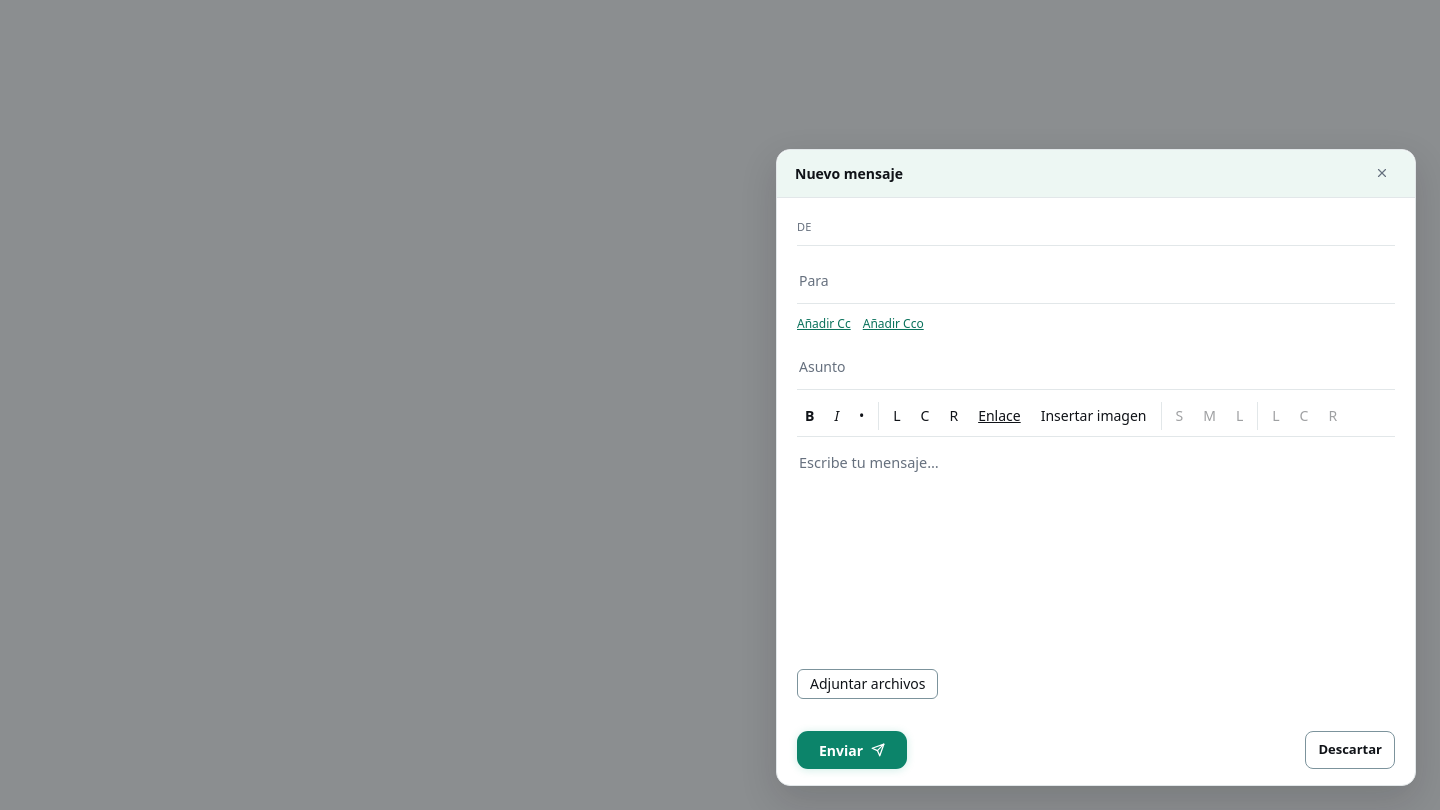
Test: Composer › adds a recipient chip when typing an email and pressing Enter in To
In the dropdown labelled "Para": (1096, 280) [797,270,1395,291], type "bob@example.com"
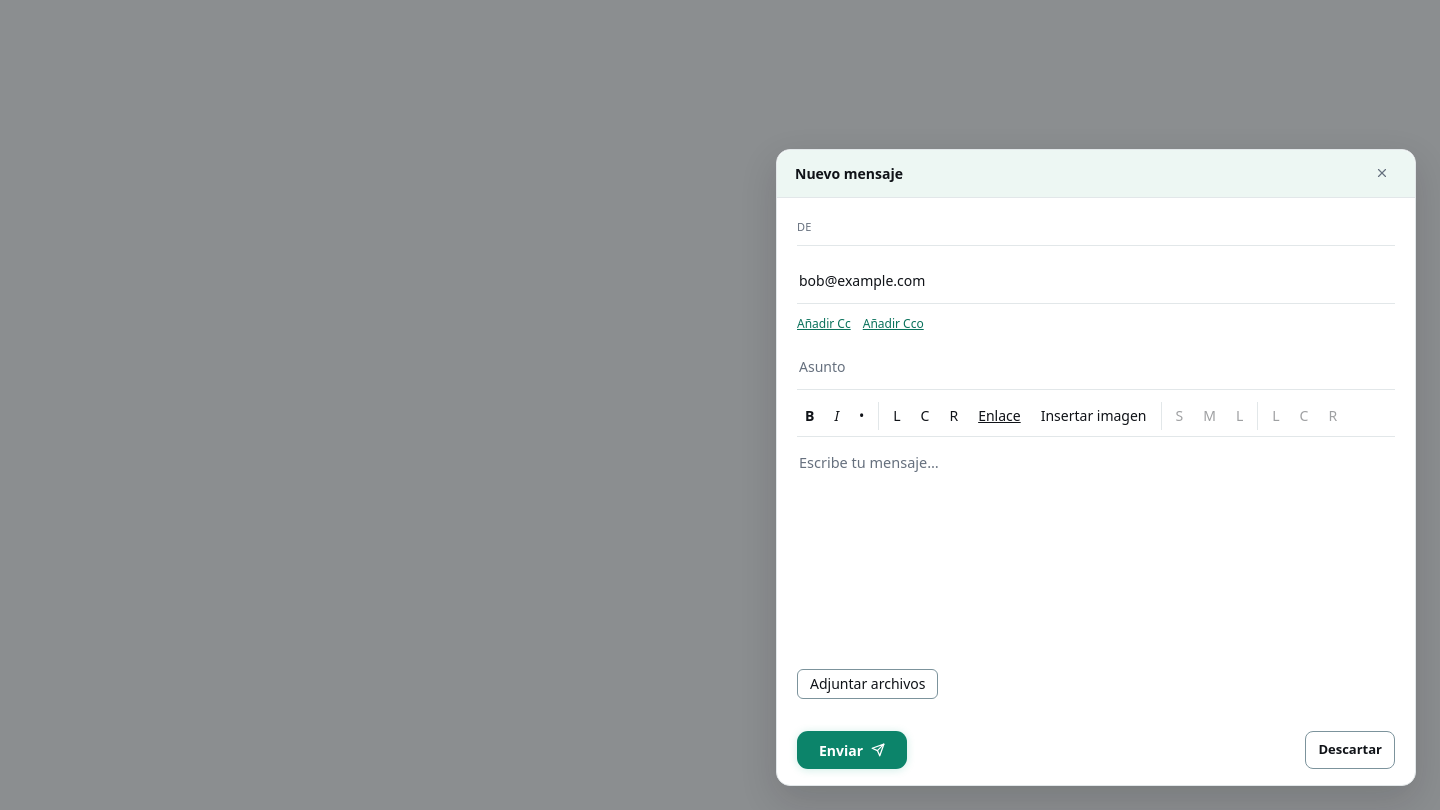
Press Enter in the dropdown named "Para", box [797,270,1395,291]
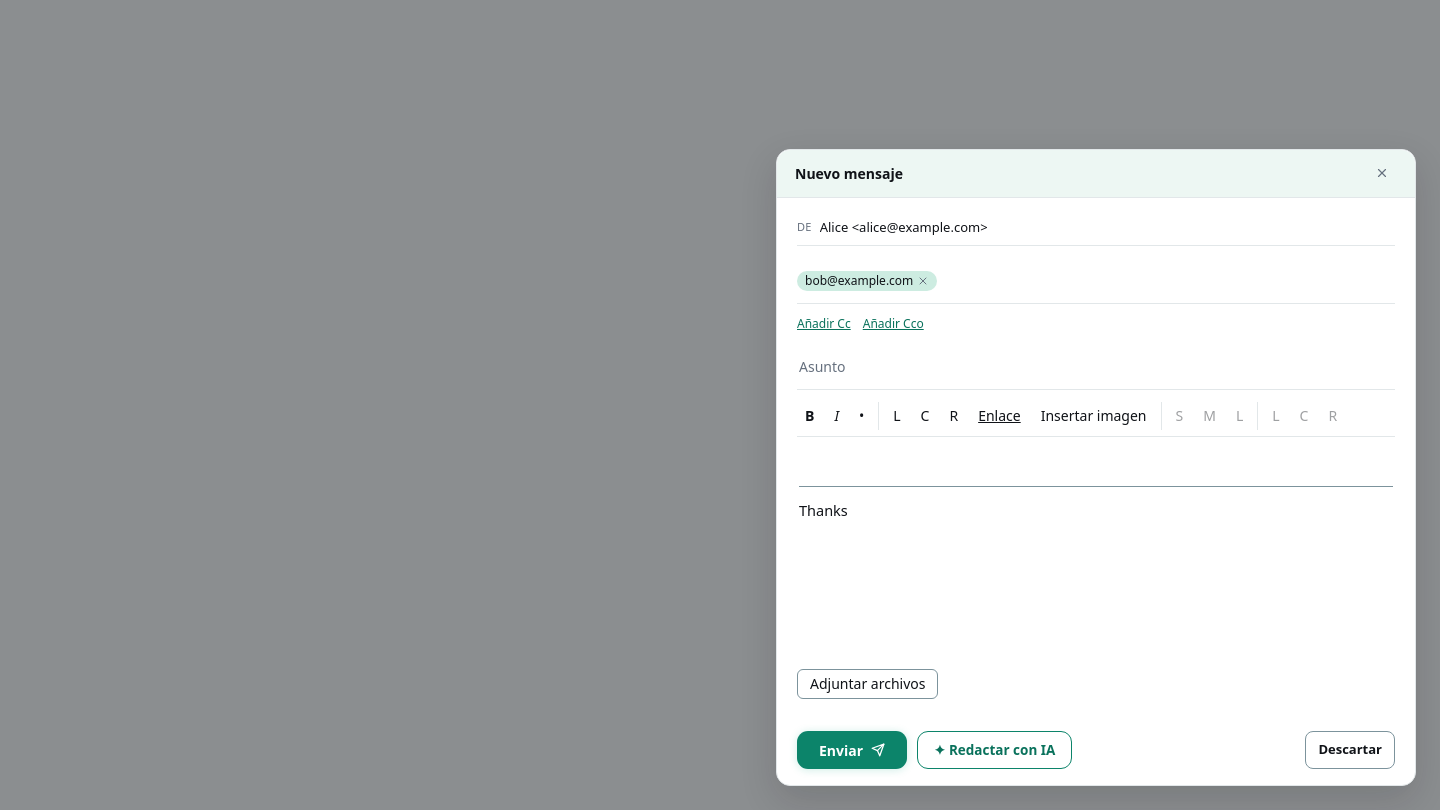
Expected: the text "bob@example.com" is shown, [797,270,937,290]
